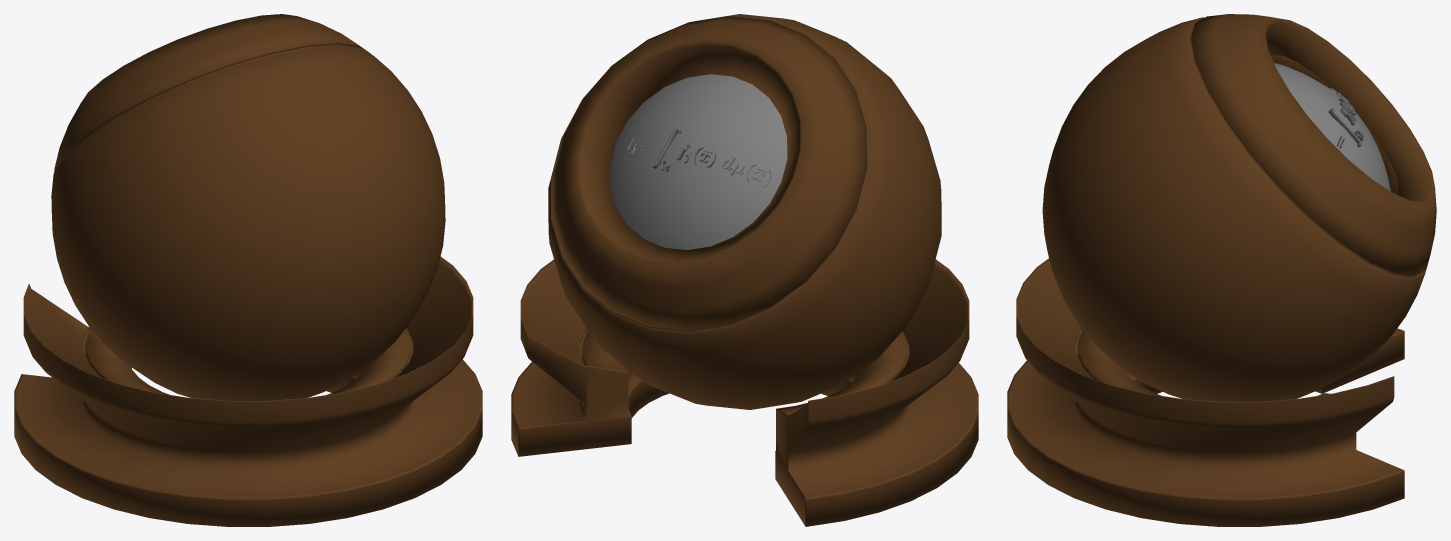
The model's file is mori_knob.fbx.
3 renders of one model, left to right at view 1: azimuth 30°, elevation 25°; view 2: azimuth 150°, elevation 25°; view 3: azimuth 270°, elevation 25°, orthographic.
Parts seen in each view (by area): view 1: OuterMat; view 2: OuterMat, InnerMat; view 3: OuterMat, InnerMat.
Boxes of the visible parts, <box> form: OuterMat: <box>14,14,482,526</box>; OuterMat: <box>511,14,978,526</box>; InnerMat: <box>610,74,787,249</box>; OuterMat: <box>1007,14,1436,526</box>; InnerMat: <box>1274,63,1390,191</box>.
Bounding box in the file's own units: 108 × 102 × 99.93.
